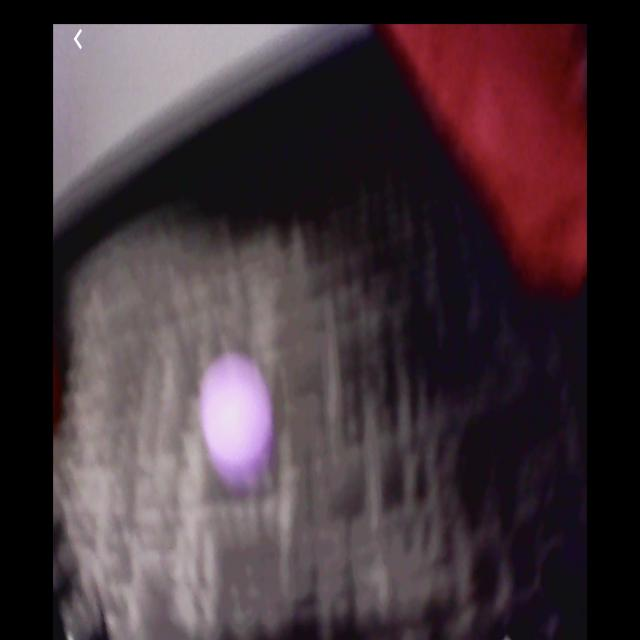ball: (204, 359, 271, 471)
